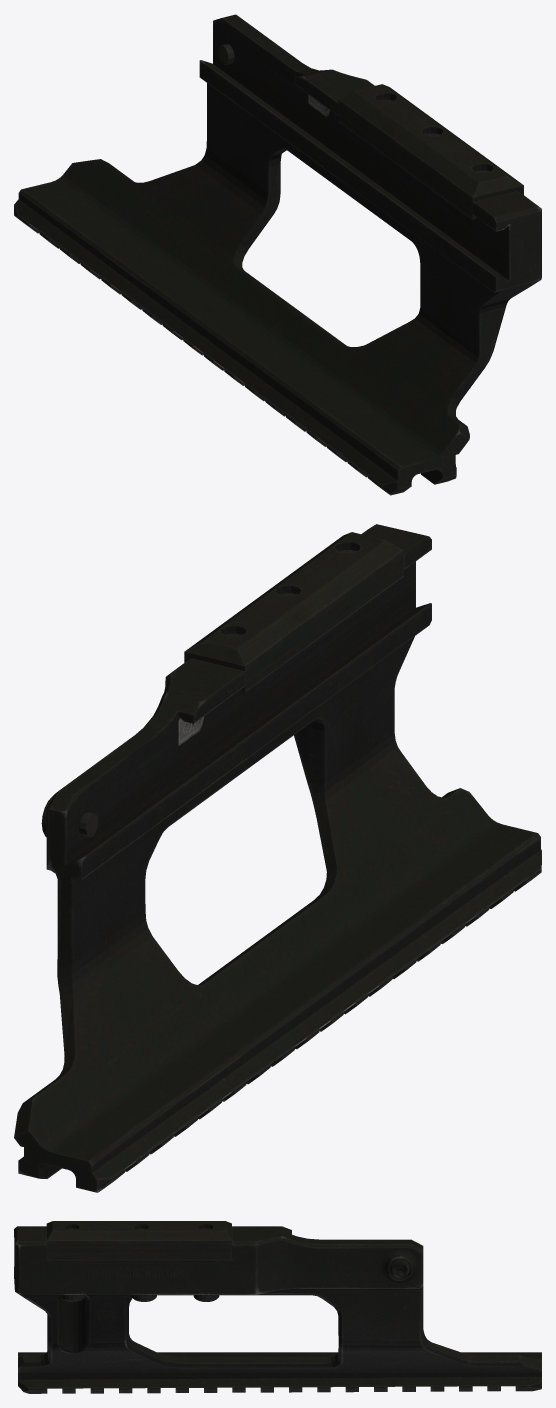
3 views of the same model, one above another, from view 1: azimuth 30°, elevation 25°; view 2: azimuth 150°, elevation 25°; view 3: azimuth 270°, elevation 25° (orthographic). The views are drawn at different scales.
Visible parts, largest first — view 1: TW_5dff8db859400025ea5150d4_PZ_Import; view 2: TW_5dff8db859400025ea5150d4_PZ_Import; view 3: TW_5dff8db859400025ea5150d4_PZ_Import.
Part boxes in pixels (left/top/right/bottom): TW_5dff8db859400025ea5150d4_PZ_Import: left=14, top=14, right=541, bottom=495; TW_5dff8db859400025ea5150d4_PZ_Import: left=14, top=524, right=541, bottom=1192; TW_5dff8db859400025ea5150d4_PZ_Import: left=14, top=1221, right=541, bottom=1393.
Bounding box in the file's own units: 0.0253 × 0.1078 × 0.0426.
1 material, 1 textured.
